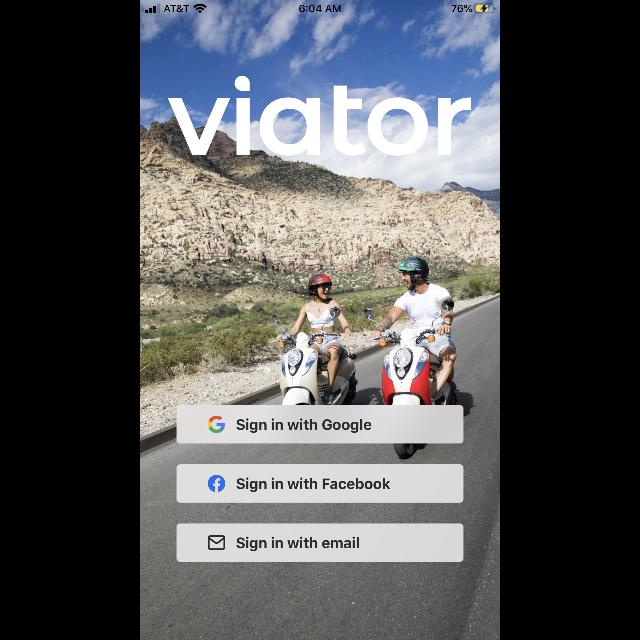backgroundimage: (140, 1, 500, 640)
image: (168, 76, 472, 156)
textbutton: (177, 524, 463, 562), (177, 464, 463, 502), (177, 406, 463, 444)
uppertaskbar: (140, 0, 500, 14)
